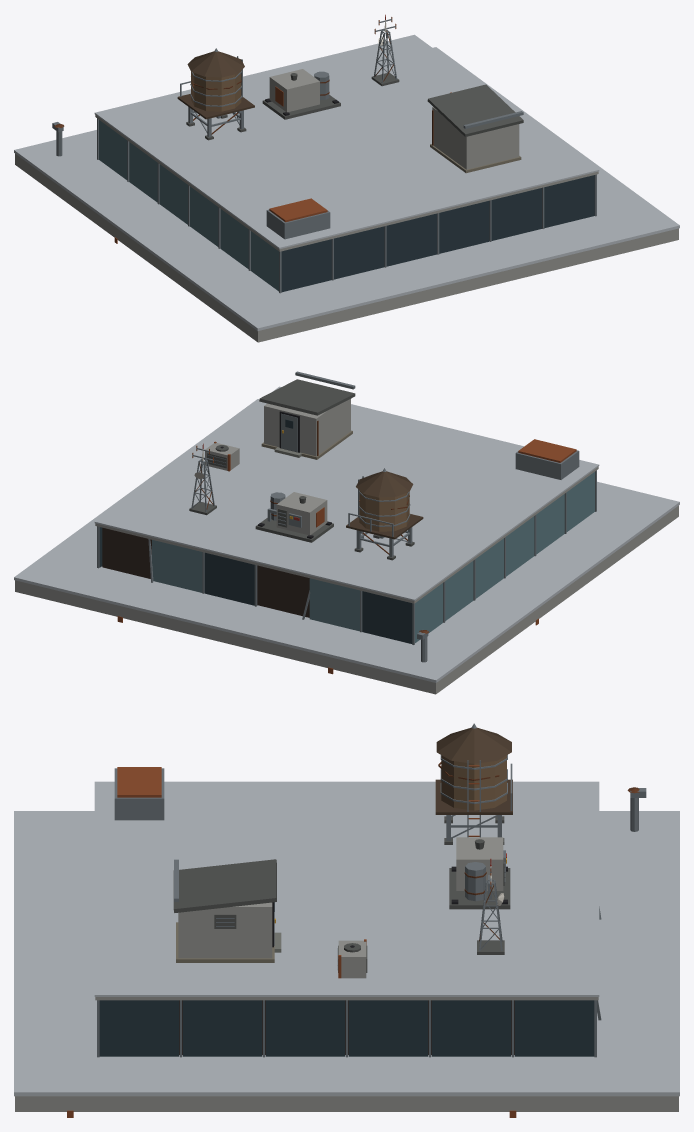
The model's file is tw_glass_24_crown.glb.
3 renders of one model, top to bottom at view 1: azimuth 30°, elevation 25°; view 2: azimuth 150°, elevation 25°; view 3: azimuth 270°, elevation 25°, orthographic. The views are drawn at different scales.
Parts seen in each view (by area): view 1: tw_glass_24_crown; view 2: tw_glass_24_crown; view 3: tw_glass_24_crown.
Boxes of the visible parts, bbox=[...] form: tw_glass_24_crown: bbox=[14, 14, 679, 342]; tw_glass_24_crown: bbox=[14, 371, 679, 694]; tw_glass_24_crown: bbox=[14, 723, 679, 1117].
Size of the model in its own units: 24.08 by 7.93 by 24.08.
Materials: 3 (3 with a texture image).
